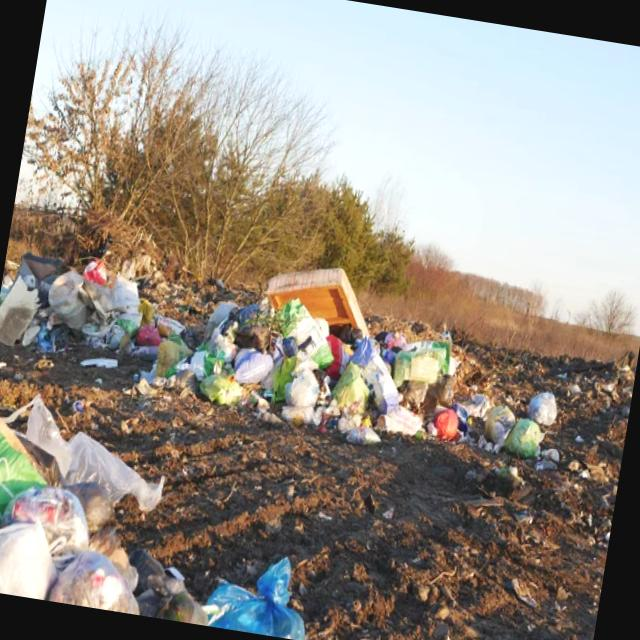garbage: (66, 221, 624, 531), (0, 388, 343, 640)
